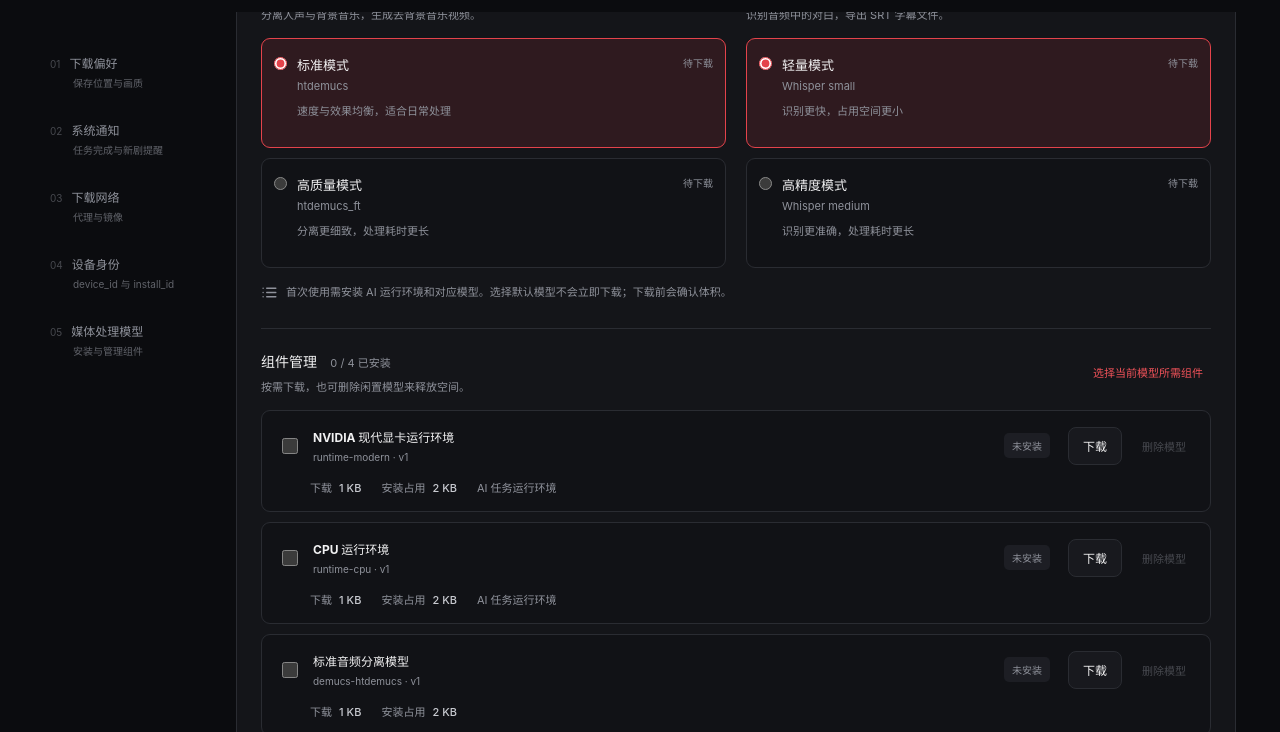
Test: SettingsPage › selects the CPU runtime when Windows AI is pinned to CPU
This screenshot has width=1280, height=732.
(page scrolled)
Click the button "选择当前模型所需组件".
click(1148, 372)  # box [1085,358,1211,386]
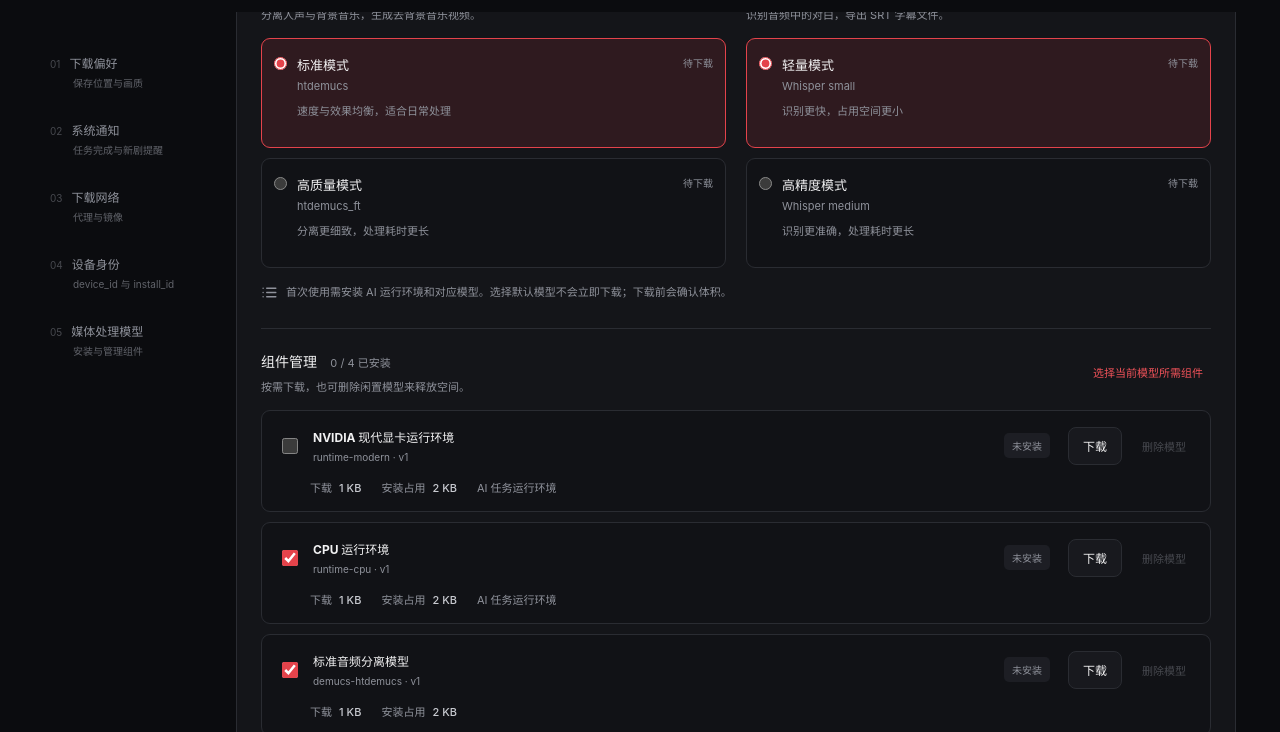
Expected: the checkbox named "选择 runtime-modern 下载" is not checked, [282,438,298,454]
Now the checkbox named "选择 runtime-cpu 下载" is checked, box [282,550,298,566]
